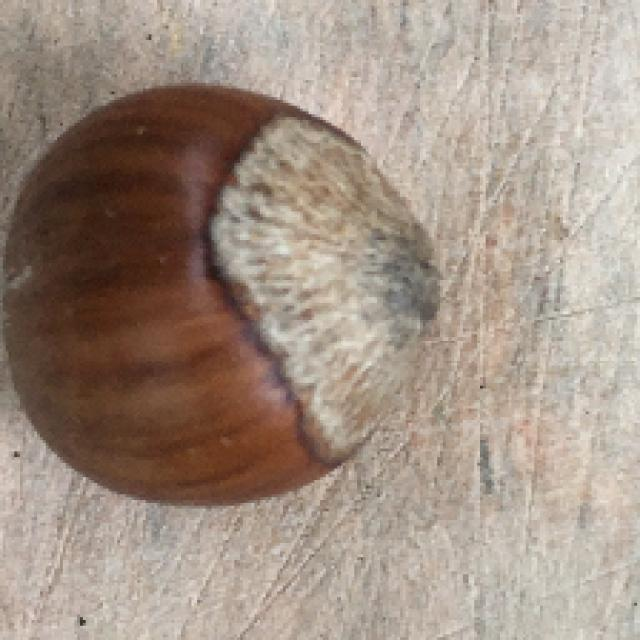qualityHazelnut: (0, 70, 449, 526)
